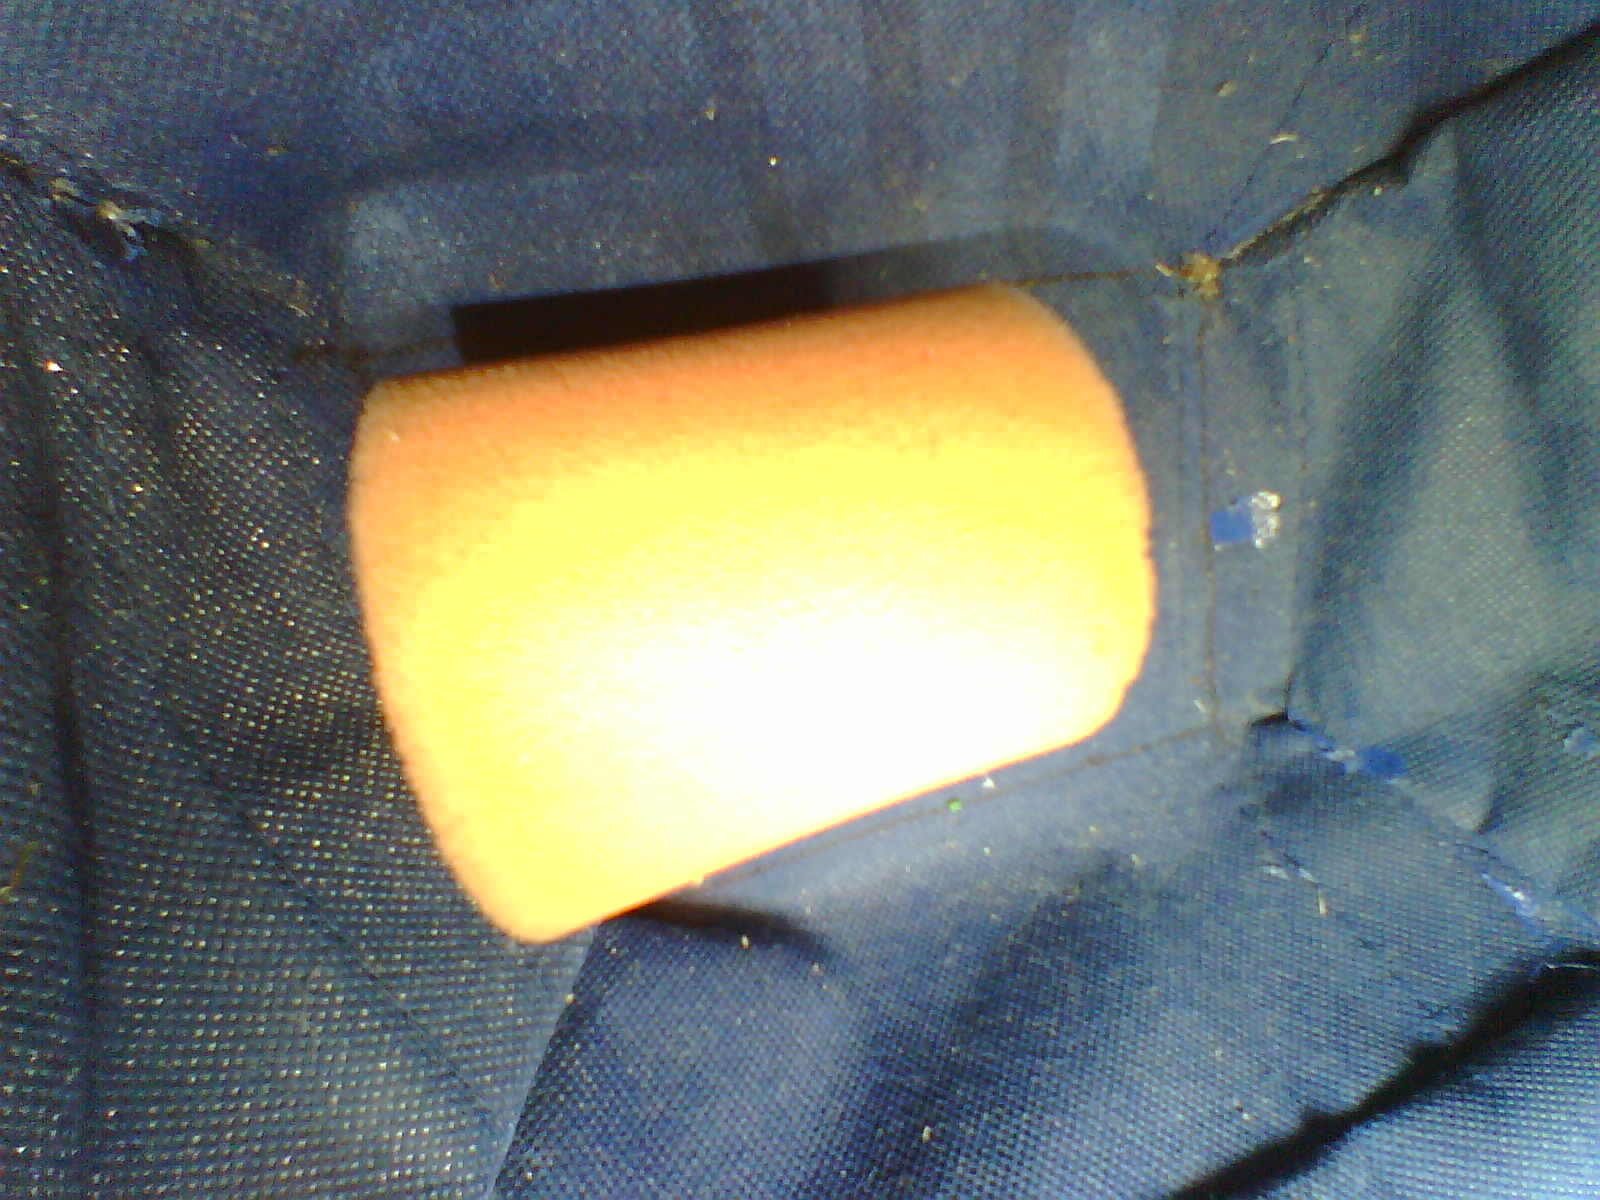cylinder-soft: (310, 275, 1175, 974)
